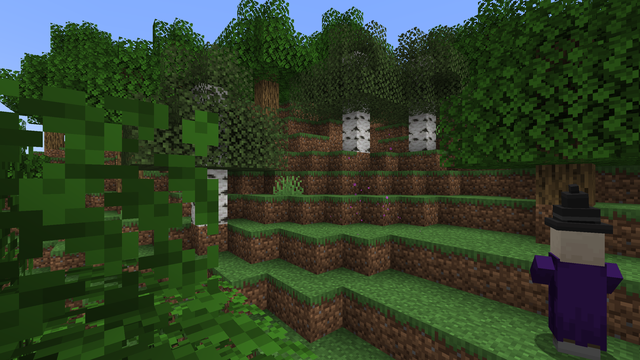sorcieres: (545, 219, 605, 357)
